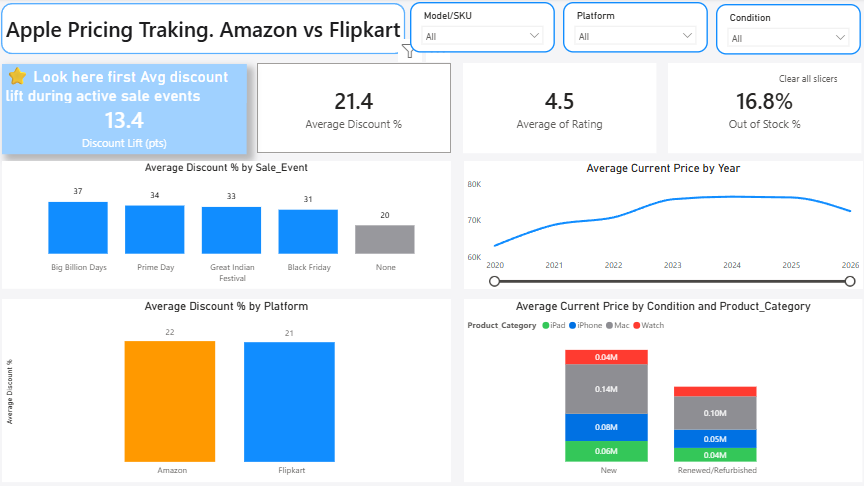

The page's visual inventory and layout, read from the dashboard file:
{"tool":"powerbi","page":{"name":"Overview","canvas":[1280,720],"ordinal":0},"visuals":[{"type":"shape","box":[8.3,6.7,591.7,75],"z":0},{"type":"cardVisual","fields":{"Data":["apple_products_pricing_2020_2026.Average Discount %"]},"box":[383.3,95,283.3,131.7],"z":1000},{"type":"cardVisual","title":"⭐ Look here first Avg discount lift during active sale events","fields":{"Data":["apple_products_pricing_2020_2026.Discount Lift (pts)"]},"box":[10,96.7,358.3,131.7],"z":2000},{"type":"cardVisual","fields":{"Data":["apple_products_pricing_2020_2026.Out of Stock %"]},"box":[985,95,283.3,131.7],"z":3000},{"type":"cardVisual","fields":{"Data":["Avg(apple_products_pricing_2020_2026.Rating)"]},"box":[685,95,283.3,131.7],"z":4000},{"type":"lineClusteredColumnComboChart","fields":{"Category":["apple_products_pricing_2020_2026.Sale_Event"],"Y":["apple_products_pricing_2020_2026.Average Discount %"]},"box":[10,238.3,656.7,186.7],"z":5000},{"type":"lineChart","fields":{"Category":["apple_products_pricing_2020_2026.Year"],"Y":["apple_products_pricing_2020_2026.Average Current Price"]},"box":[686.7,238.3,583.3,186.7],"z":6000},{"type":"clusteredColumnChart","fields":{"Category":["apple_products_pricing_2020_2026.Platform"],"Y":["apple_products_pricing_2020_2026.Average Discount %"]},"box":[10,440,656.7,268.3],"z":7000},{"type":"columnChart","fields":{"Category":["apple_products_pricing_2020_2026.Condition"],"Series":["apple_products_pricing_2020_2026.Product_Category"],"Y":["apple_products_pricing_2020_2026.Average Current Price"]},"box":[687,440,583,268],"z":8000},{"type":"slicer","fields":{"Values":["apple_products_pricing_2020_2026.Model_Name"]},"box":[607.2,6.5,212.1,74.5],"z":9000},{"type":"slicer","fields":{"Values":["apple_products_pricing_2020_2026.Platform"]},"box":[831.5,6.5,212.1,74.5],"z":10000},{"type":"slicer","fields":{"Values":["apple_products_pricing_2020_2026.Condition"]},"box":[1055.7,8.1,212.1,74.5],"z":11000},{"type":"actionButton","box":[1113.7,97.1,153,42.7],"z":11001}]}

Visuals, with their boxes in screenshot pixels (x1, y1, x2, y2), scaled from the page's 1280x720 canvas onto the 864x486 screenshot:
shape: <region>6, 5, 405, 55</region>
cardVisual - apple_products_pricing_2020_2026.Average Discount %: <region>259, 64, 450, 153</region>
"⭐ Look here first Avg discount lift during active sale events" cardVisual: <region>7, 65, 249, 154</region>
cardVisual - apple_products_pricing_2020_2026.Out of Stock %: <region>665, 64, 856, 153</region>
cardVisual - Avg(apple_products_pricing_2020_2026.Rating): <region>462, 64, 654, 153</region>
lineClusteredColumnComboChart - apple_products_pricing_2020_2026.Sale_Event x apple_products_pricing_2020_2026.Average Discount %: <region>7, 161, 450, 287</region>
lineChart - apple_products_pricing_2020_2026.Year x apple_products_pricing_2020_2026.Average Current Price: <region>464, 161, 857, 287</region>
clusteredColumnChart - apple_products_pricing_2020_2026.Platform x apple_products_pricing_2020_2026.Average Discount %: <region>7, 297, 450, 478</region>
columnChart - apple_products_pricing_2020_2026.Condition x apple_products_pricing_2020_2026.Product_Category: <region>464, 297, 857, 478</region>
slicer - apple_products_pricing_2020_2026.Model_Name: <region>410, 4, 553, 55</region>
slicer - apple_products_pricing_2020_2026.Platform: <region>561, 4, 704, 55</region>
slicer - apple_products_pricing_2020_2026.Condition: <region>713, 5, 856, 56</region>
actionButton: <region>752, 66, 855, 94</region>
